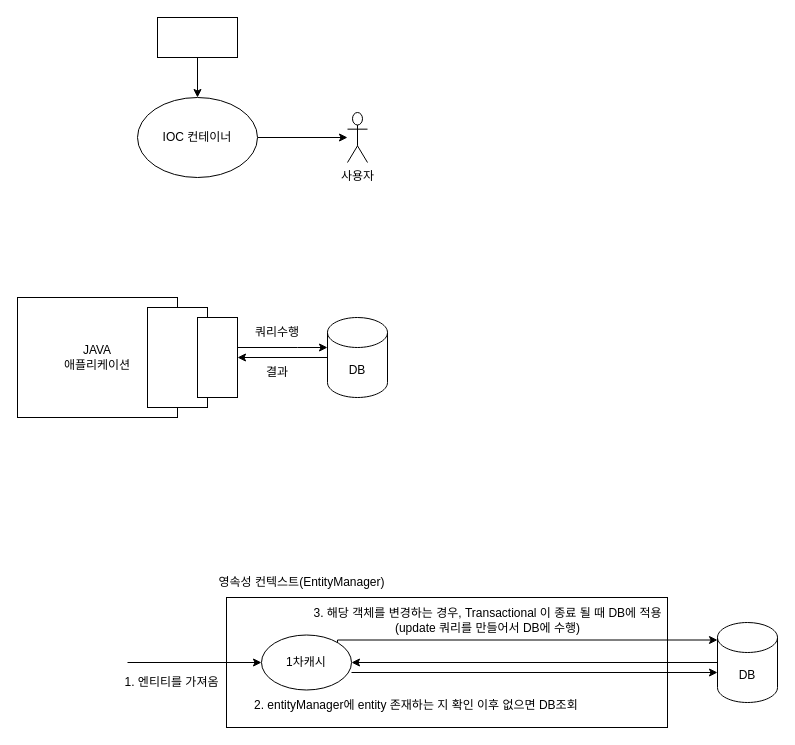
This 795x745 diagram has some shape labels left out. The centre of each missing label's shape, as x and y in pixels:
"JDBC API" belongs at (x=217, y=357).
"JPA" belongs at (x=177, y=357).
"객체" belongs at (x=197, y=37).
